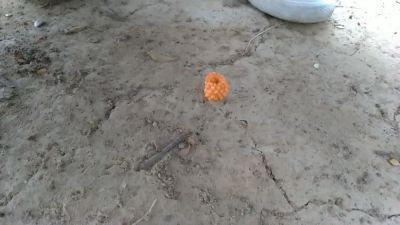eggs: (203, 70, 234, 105)
